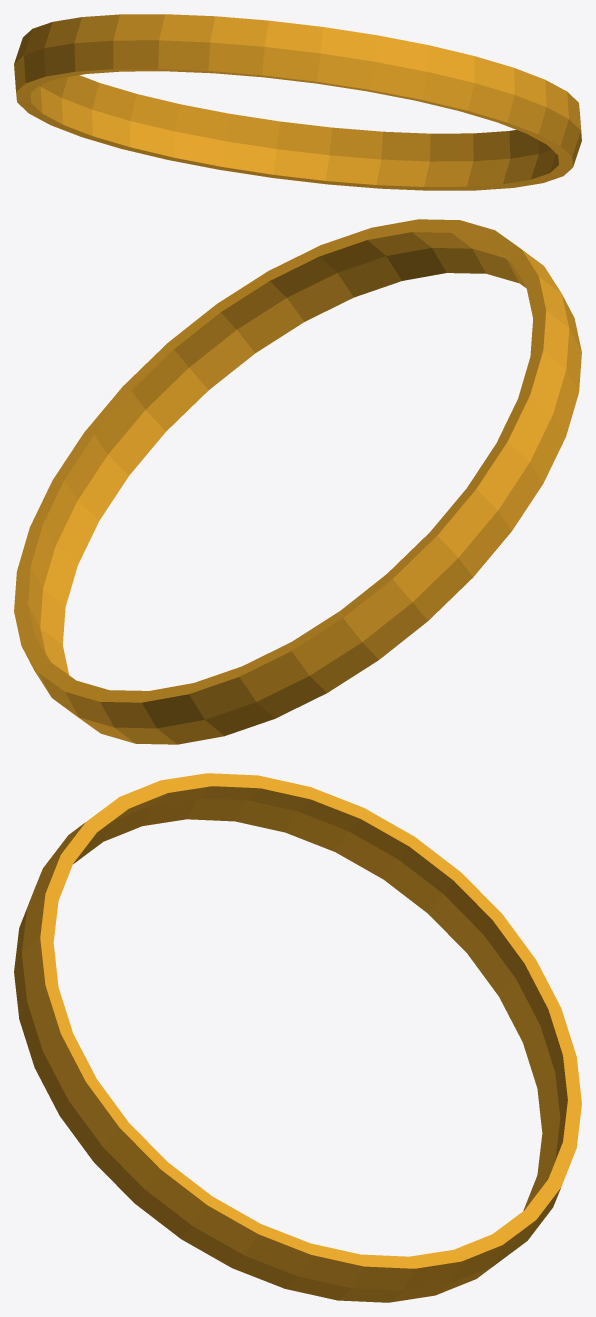
Rendered from God Ring 1.fbx.
3 renders of one model, top to bottom at view 1: azimuth 30°, elevation 25°; view 2: azimuth 150°, elevation 25°; view 3: azimuth 270°, elevation 25°, orthographic. The views are drawn at different scales.
Parts seen in each view (by area): view 1: Sphere; view 2: Sphere; view 3: Sphere.
Boxes of the visible parts, x1,y1,x2,y2 form: Sphere: (14, 14, 581, 190); Sphere: (14, 219, 581, 744); Sphere: (14, 773, 581, 1302).
Size of the model in its own units: 1124 by 783 by 1106.
